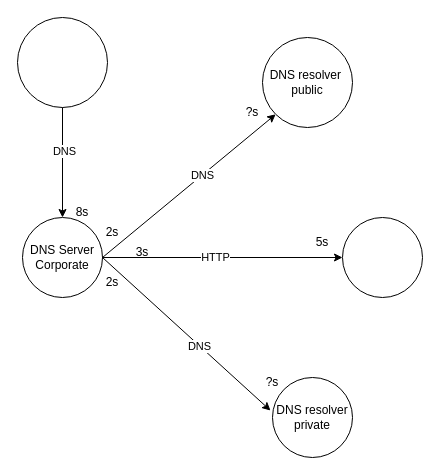
Some shapes in this 440 by 475 pixel diagram are drawn without their labels. Each missing label, with the centre of its shape:
"DNS Client (Windows: first timeout 1s, max 10s)" goes at [62,62].
"DOH server" goes at [382,257].
